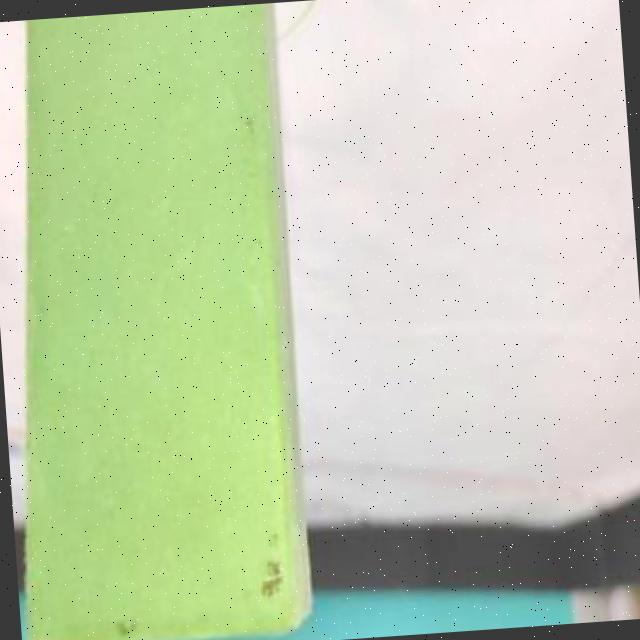greenbox: (0, 2, 317, 640)
